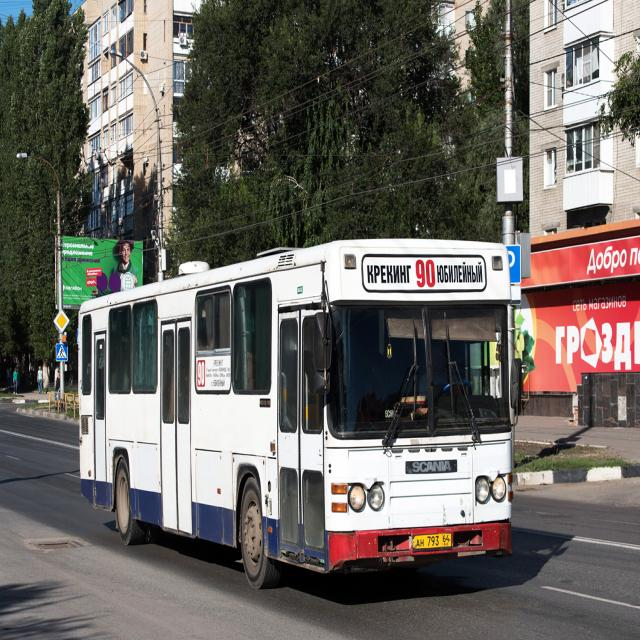number-of-bus: (414, 257, 438, 294), (193, 356, 213, 394)
